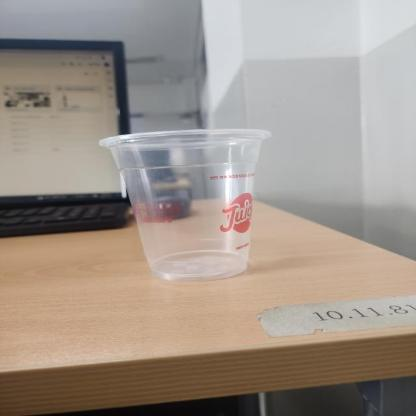Plastic Cup: (96, 128, 272, 283)
